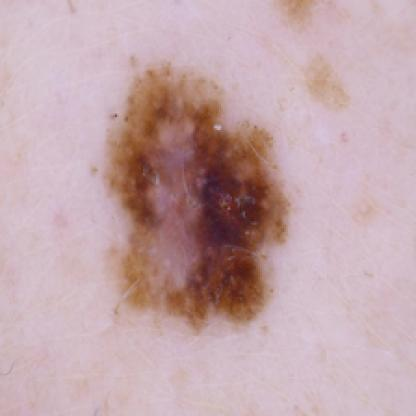Skin_Cancer-Malignant: (106, 60, 293, 336)
